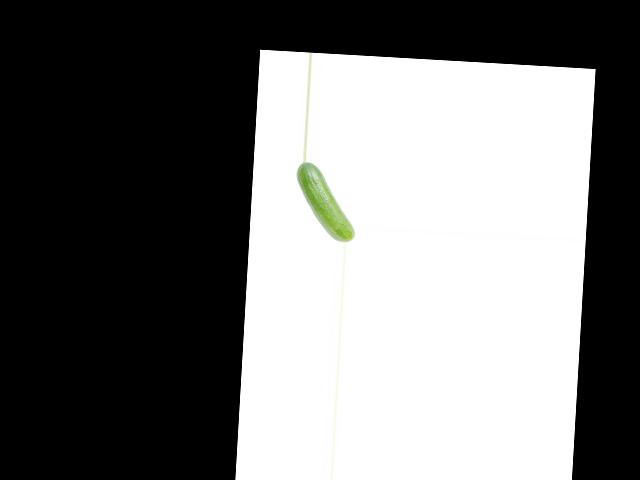cucumber: (292, 160, 358, 243)
